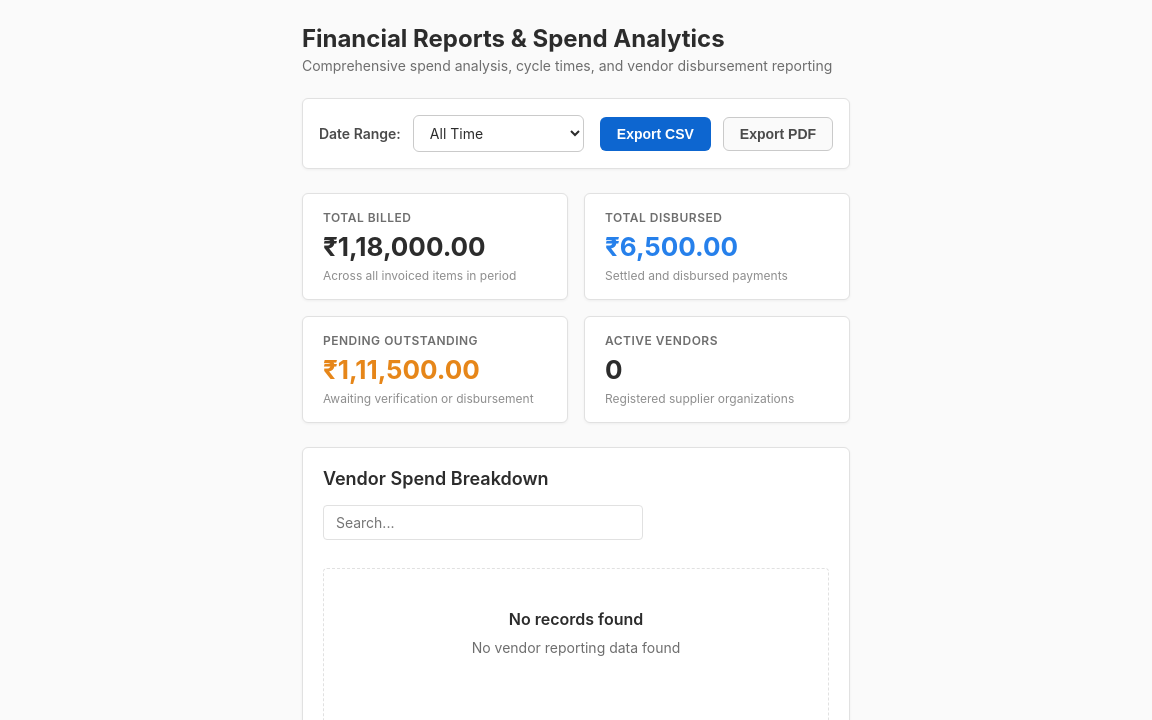
Test: ReportsPage › CSV & PDF Export Controls › does not print while there are no report rows
Expected: the element with test id "report-metric-total-billed" shows "₹", left=302, top=193, right=568, bottom=300
Click the button with test id "export-pdf-btn".
click(778, 134)  # box left=723, top=116, right=833, bottom=150
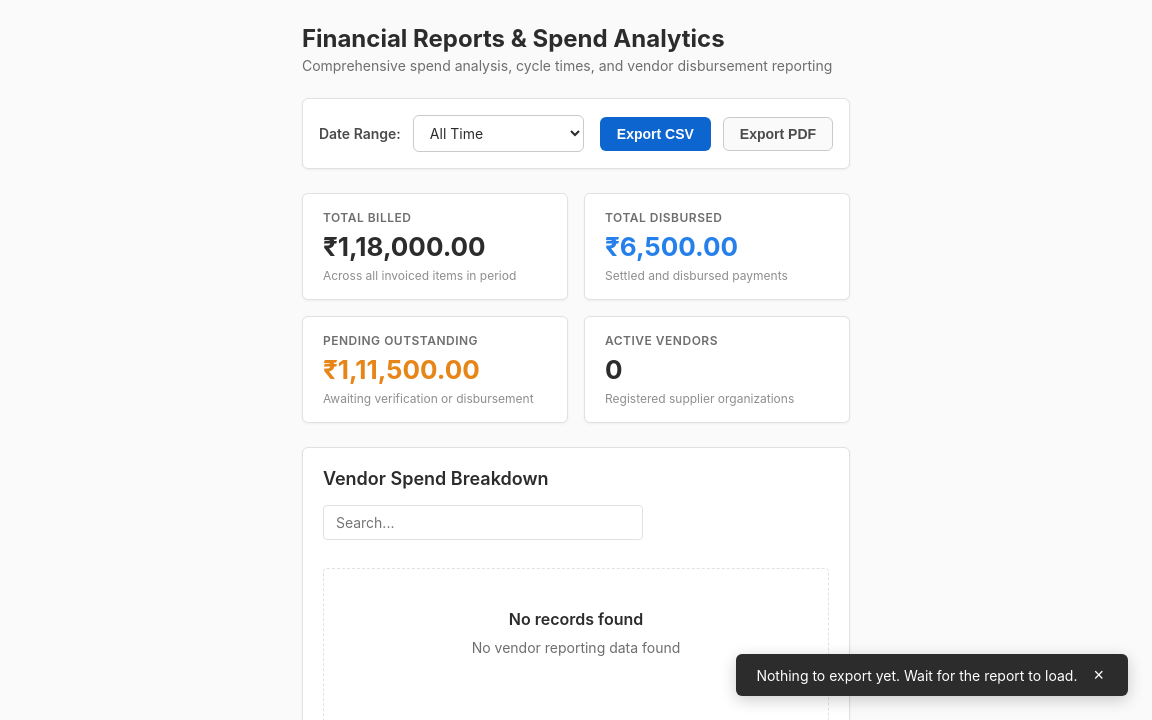
Expected: the text "Nothing to export yet. Wait for the report to load." is shown, left=756, top=666, right=1078, bottom=684
